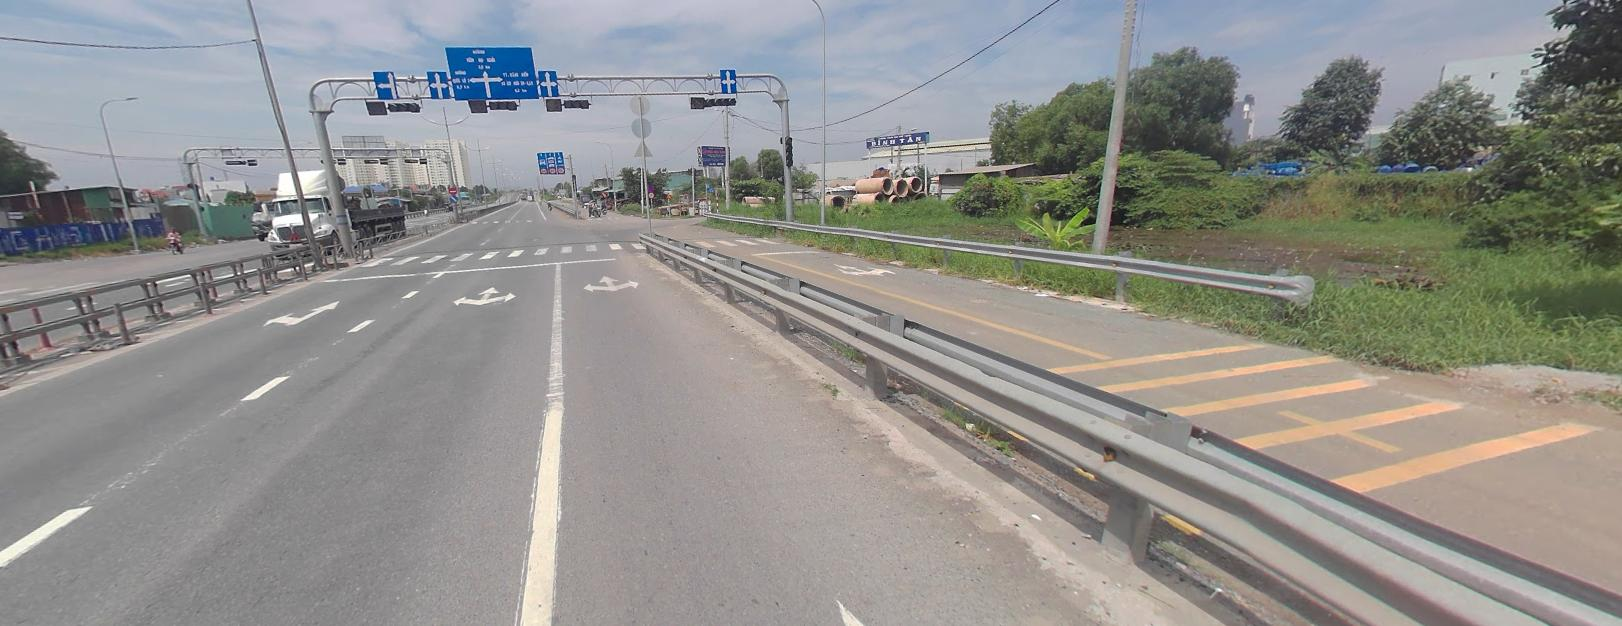Cam con lai: (648, 190, 654, 196)
Cam dung va do: (647, 182, 653, 189)
Cam nguoc chieu: (448, 185, 456, 192)
Gioi han toc do: (540, 166, 546, 172), (549, 166, 555, 171), (557, 166, 563, 171)
Hieu lenh: (449, 192, 458, 200)
Nguy hiem: (665, 191, 671, 196)
